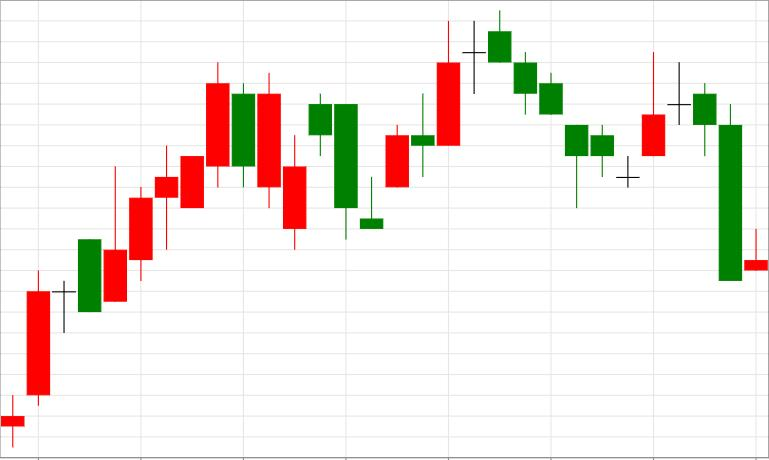hammer_rise: (463, 9, 589, 209)
morning_star_rise: (462, 9, 666, 210)
